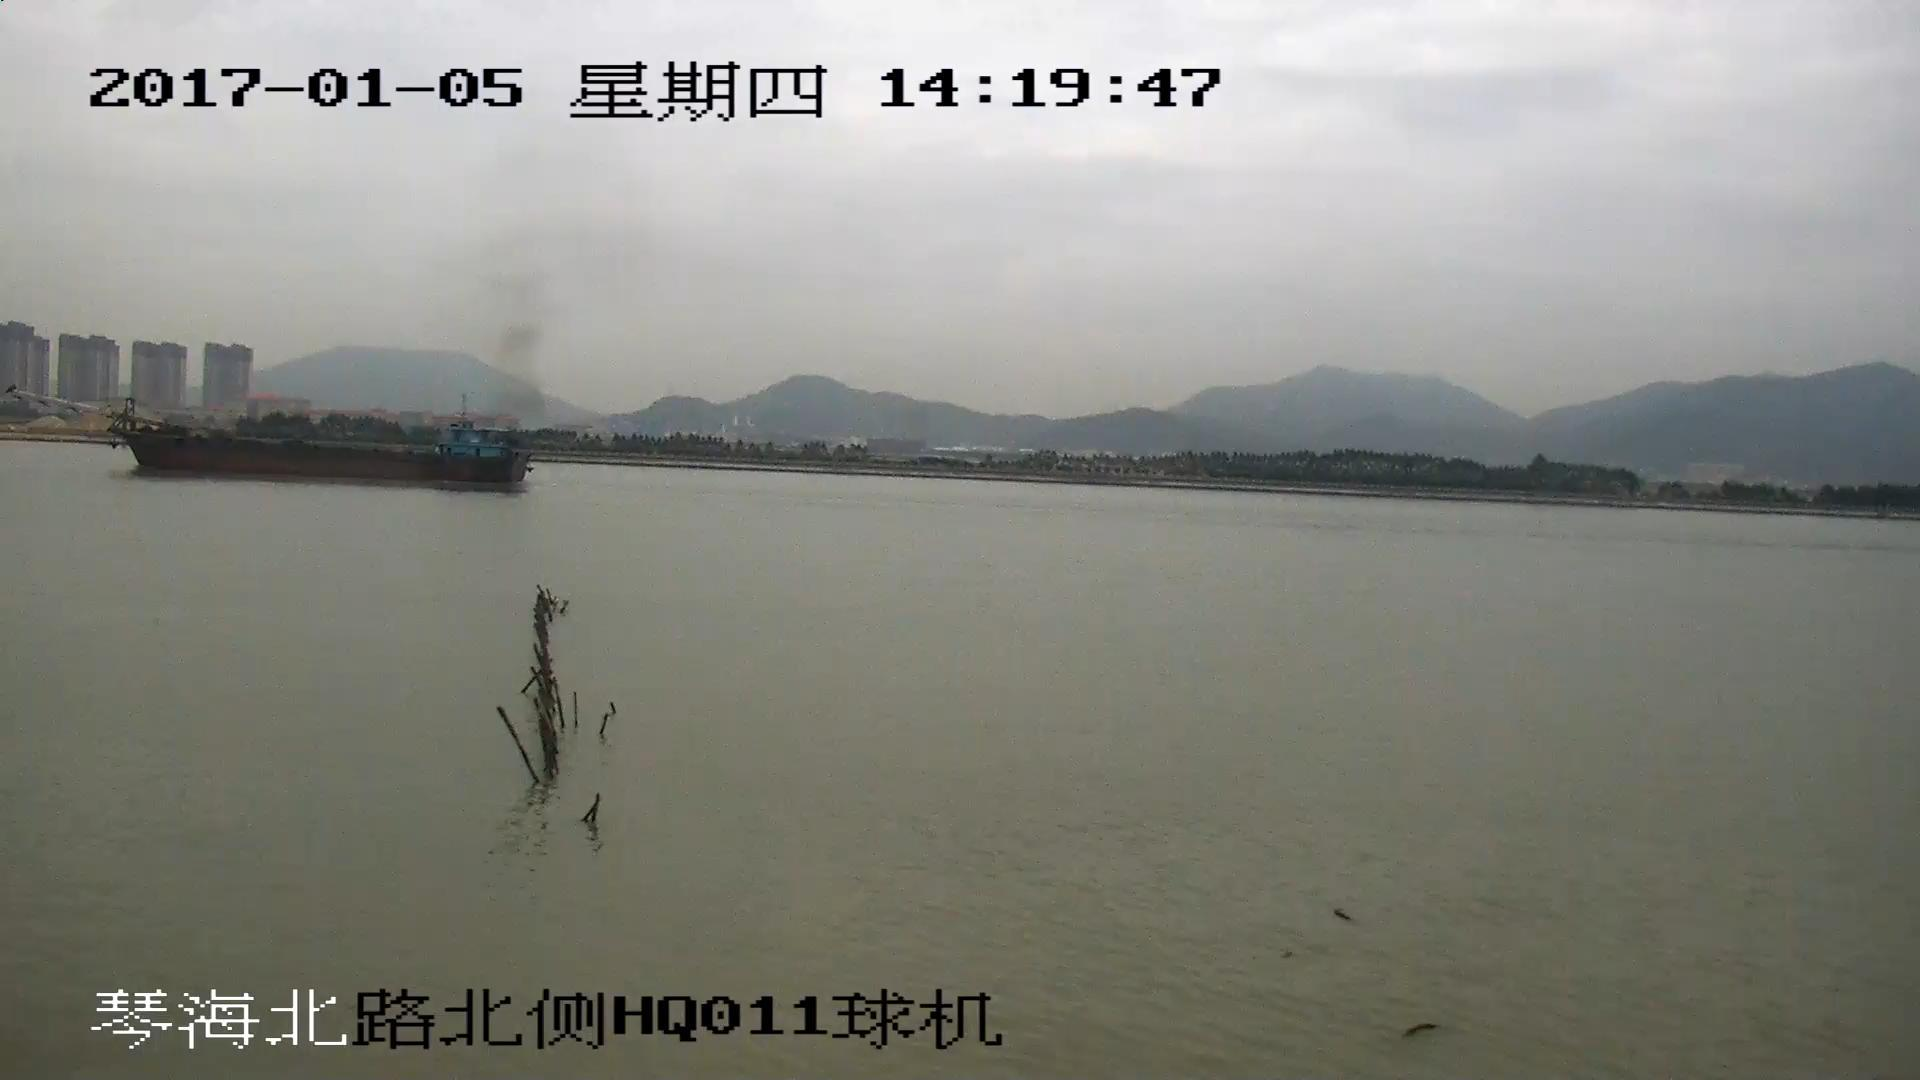Ship: (11, 392, 531, 483)
